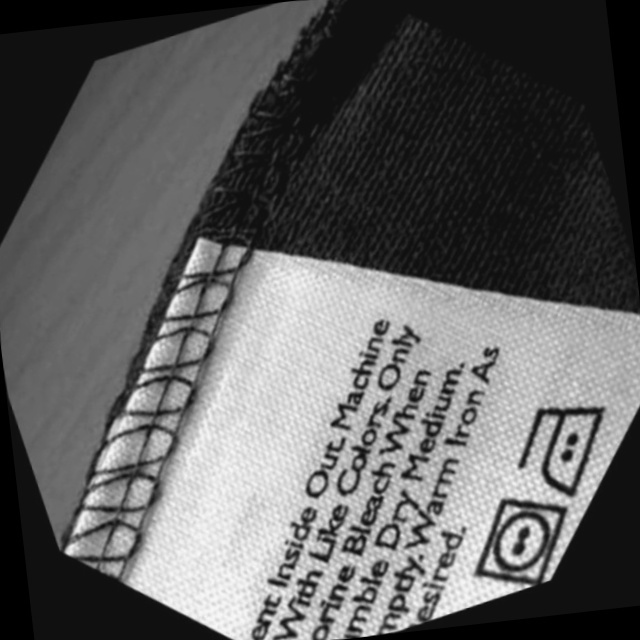iron_medium: (494, 376, 640, 516)
tumble_dry_medium: (448, 471, 599, 610)
